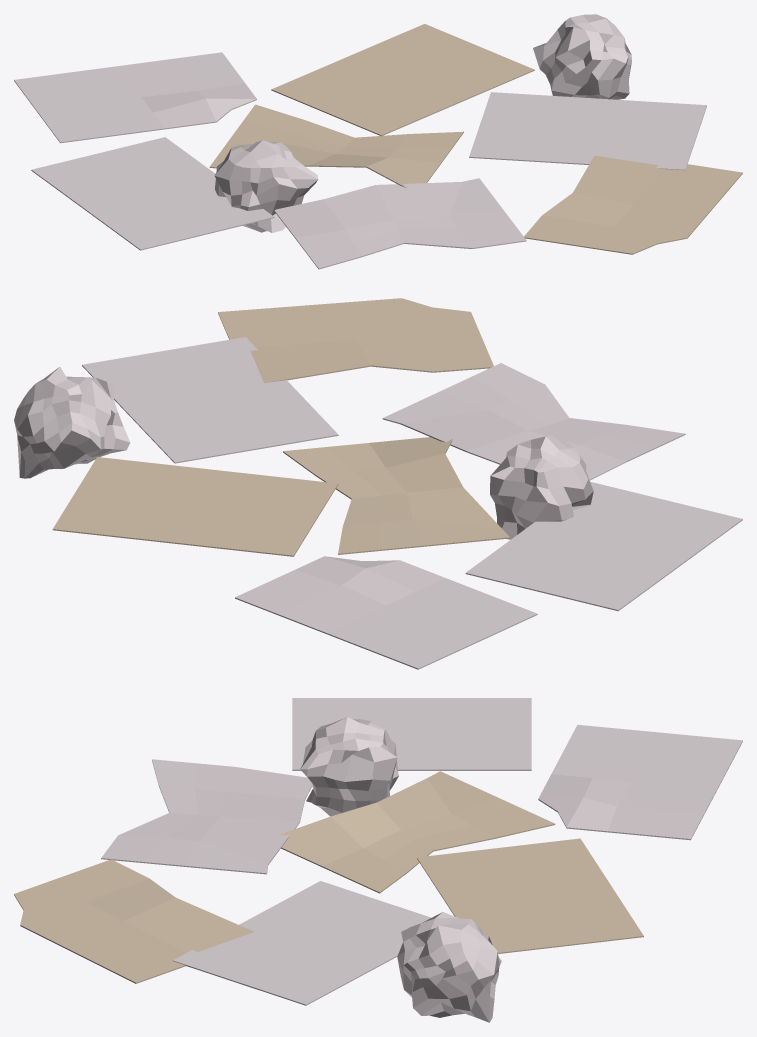
File: Paper3.fbx
3 renders of one model, top to bottom at view 1: azimuth 30°, elevation 25°; view 2: azimuth 150°, elevation 25°; view 3: azimuth 270°, elevation 25°, orthographic. The views are drawn at different scales.
Parts seen in each view (by area): view 1: Cube; view 2: Cube; view 3: Cube.
Part boxes in pixels (x1,y1,x2,y2): Cube: (14, 14, 742, 269); Cube: (14, 298, 742, 669); Cube: (14, 698, 742, 1022).
Size of the model in its own units: 635 by 95.76 by 638.
